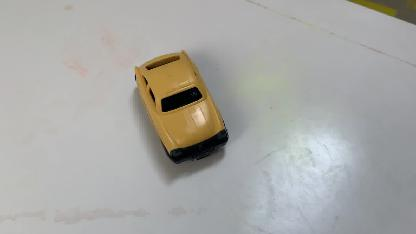yellow mini cooper: (133, 46, 229, 166)
